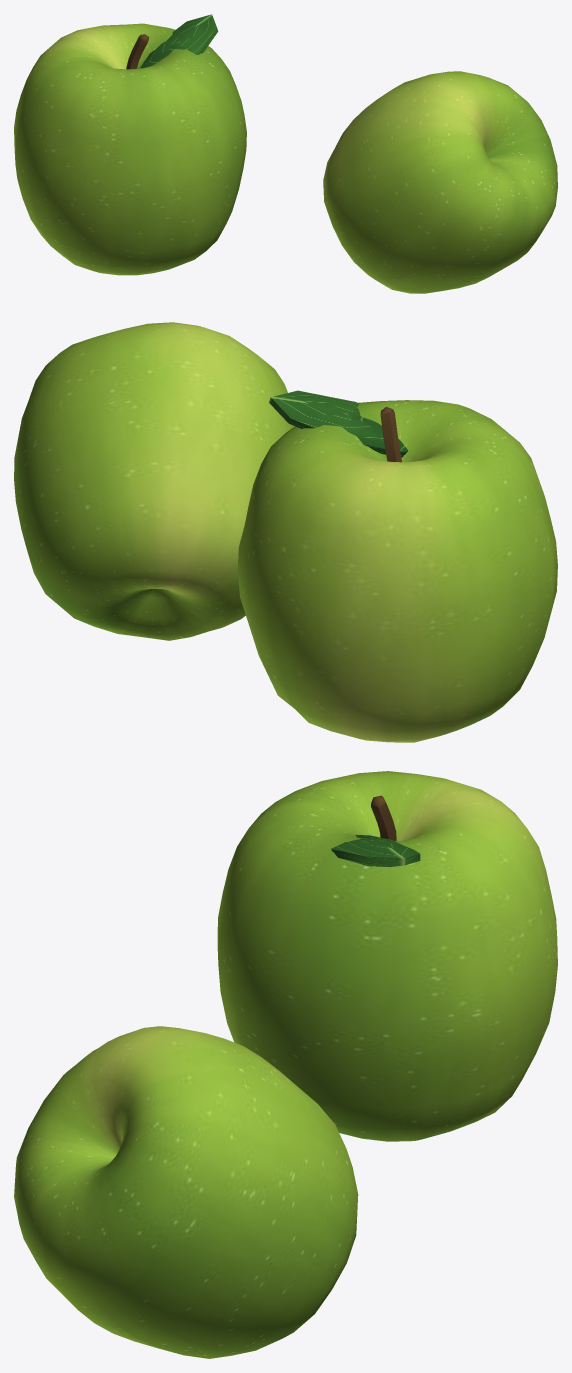
File: fruit_apple_green_pair.glb
3 views of the same model, one above another, from view 1: azimuth 30°, elevation 25°; view 2: azimuth 150°, elevation 25°; view 3: azimuth 270°, elevation 25° (orthographic). The views are drawn at different scales.
Parts seen in each view (by area): view 1: fruit_apple_green_pair; view 2: fruit_apple_green_pair; view 3: fruit_apple_green_pair.
Part boxes in pixels (left/top/right/bottom): fruit_apple_green_pair: left=14, top=14, right=557, bottom=293; fruit_apple_green_pair: left=14, top=322, right=557, bottom=742; fruit_apple_green_pair: left=14, top=771, right=557, bottom=1358.
Size of the model in its own units: 0.1587 by 0.0906 by 0.1151.
Materials: 3 (2 with a texture image).
